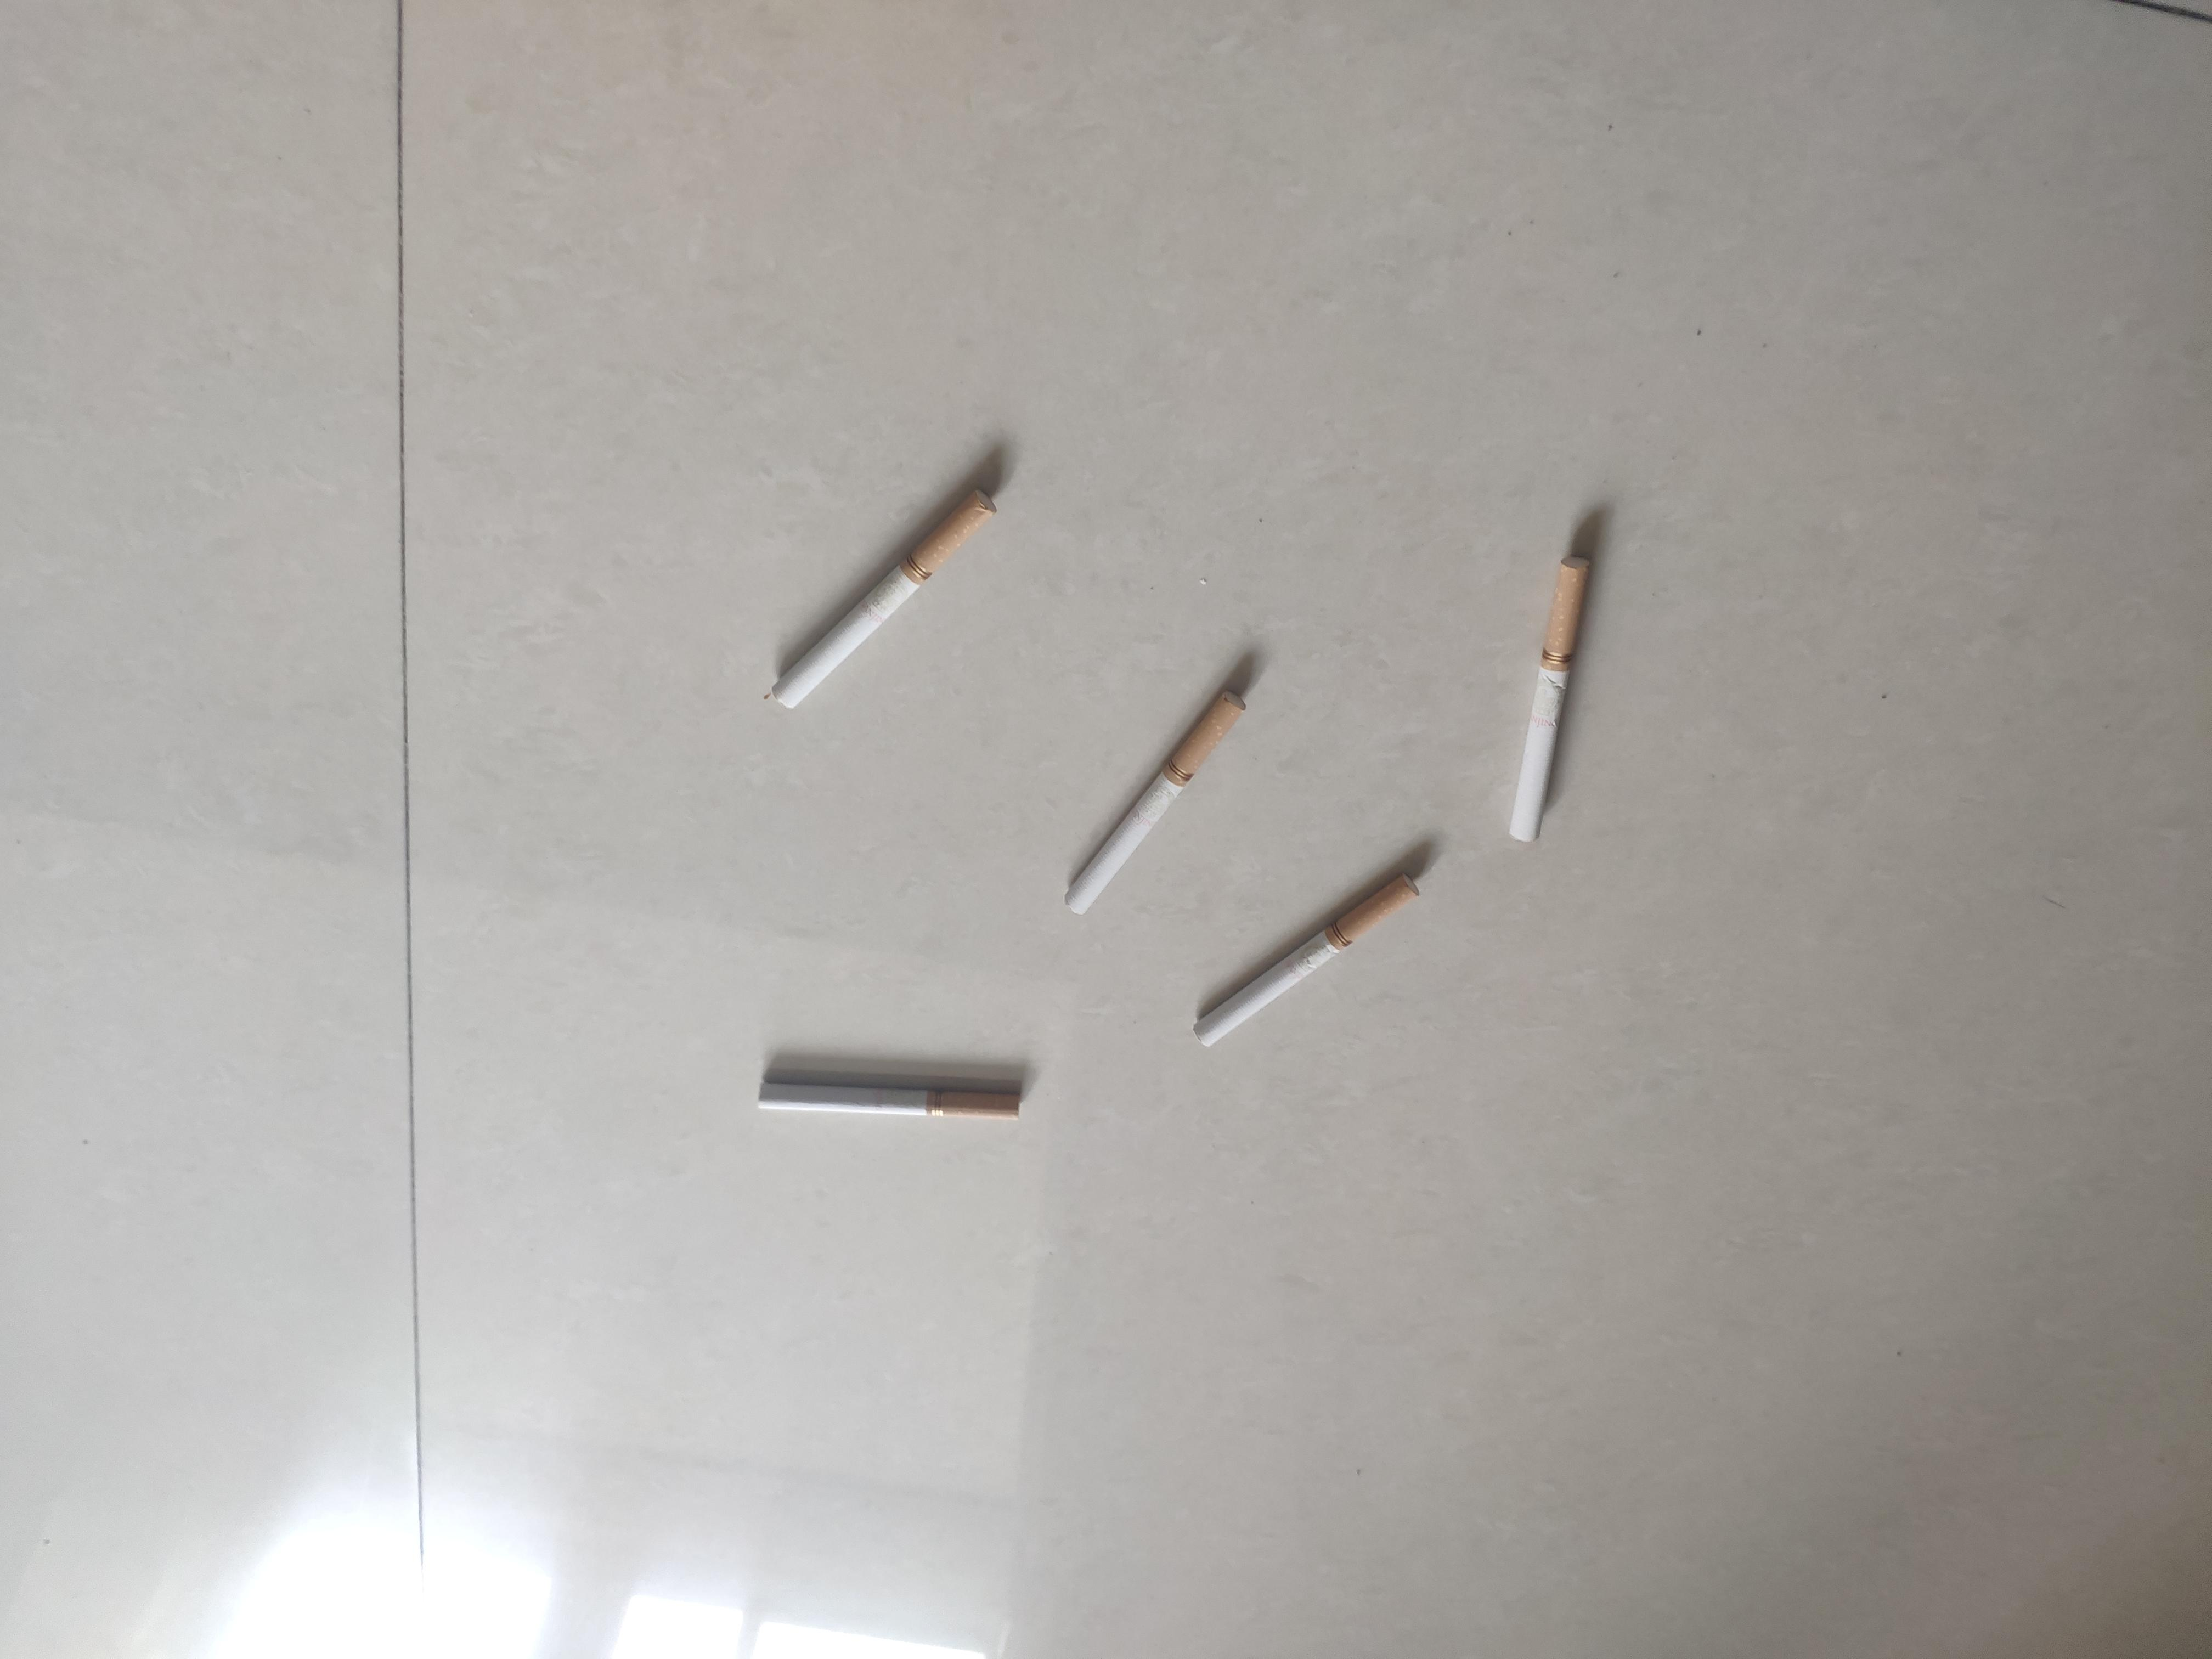smoke: (1217, 950, 1440, 1169), (967, 742, 1148, 971), (792, 610, 1021, 788), (620, 816, 704, 1105), (1190, 537, 1456, 580)
